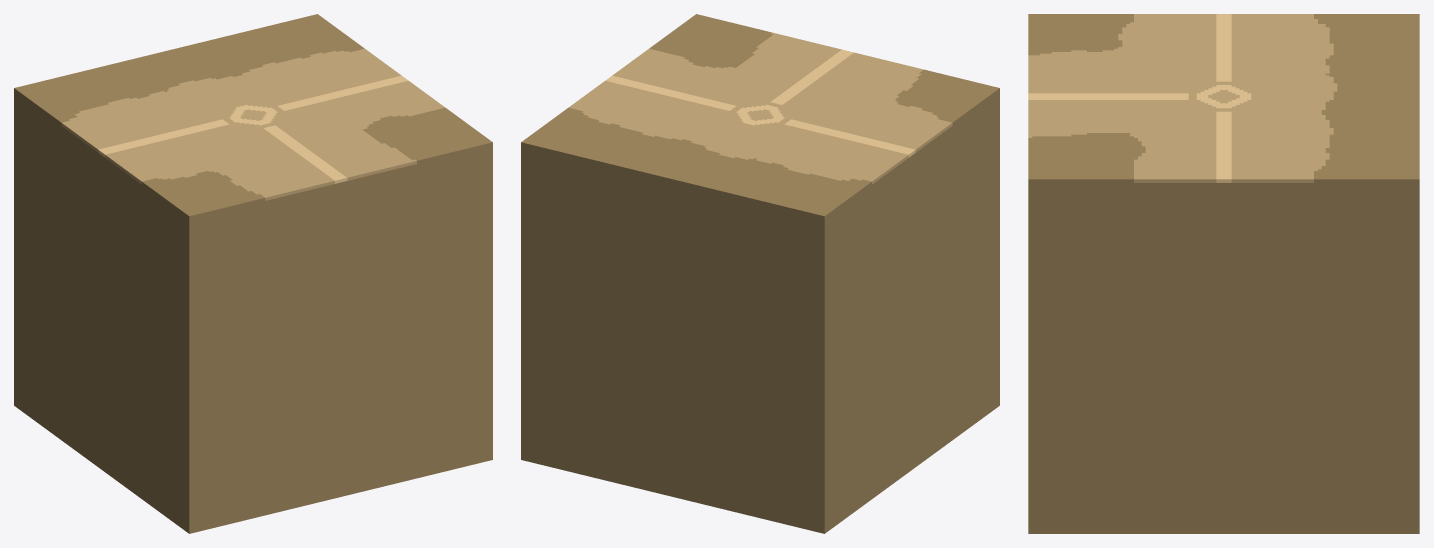
The model's file is floor3.obj.
3 renders of one model, left to right at view 1: azimuth 30°, elevation 25°; view 2: azimuth 150°, elevation 25°; view 3: azimuth 270°, elevation 25°, orthographic. The views are drawn at different scales.
Parts seen in each view (by area): view 1: floor3; view 2: floor3; view 3: floor3.
Part boxes in pixels (box(x1,y1,x2,y2)): floor3: box(14, 14, 492, 533); floor3: box(521, 14, 999, 533); floor3: box(1028, 14, 1419, 533).
Size of the model in its own units: 100 by 100 by 100.
1 material, 1 textured.
